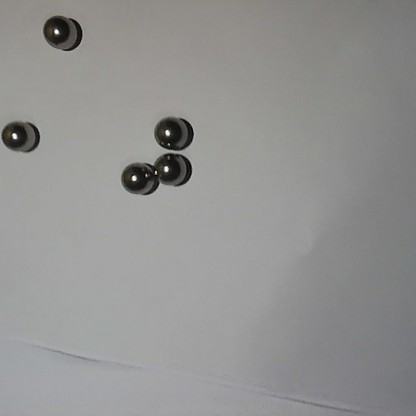ironball: (149, 113, 195, 151), (39, 12, 79, 51), (113, 158, 155, 195), (153, 155, 197, 186), (0, 118, 34, 153)
